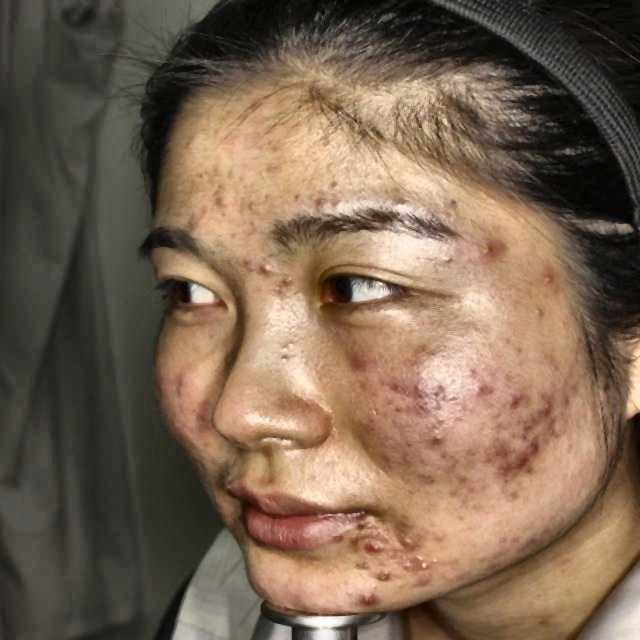papule: (481, 455, 547, 489), (382, 191, 434, 224), (413, 425, 456, 459), (538, 422, 588, 451), (193, 181, 235, 214), (390, 574, 446, 597), (355, 566, 405, 590), (356, 591, 401, 617), (528, 392, 560, 422), (385, 530, 426, 553), (498, 438, 549, 456), (554, 378, 584, 406), (410, 370, 432, 407), (276, 275, 300, 307), (394, 553, 436, 571), (478, 239, 514, 258), (432, 375, 459, 400), (500, 394, 524, 421), (353, 539, 385, 559), (243, 255, 276, 274), (536, 270, 566, 290), (339, 356, 369, 376), (317, 193, 343, 215), (467, 378, 492, 398), (386, 378, 408, 397), (346, 557, 366, 572)
